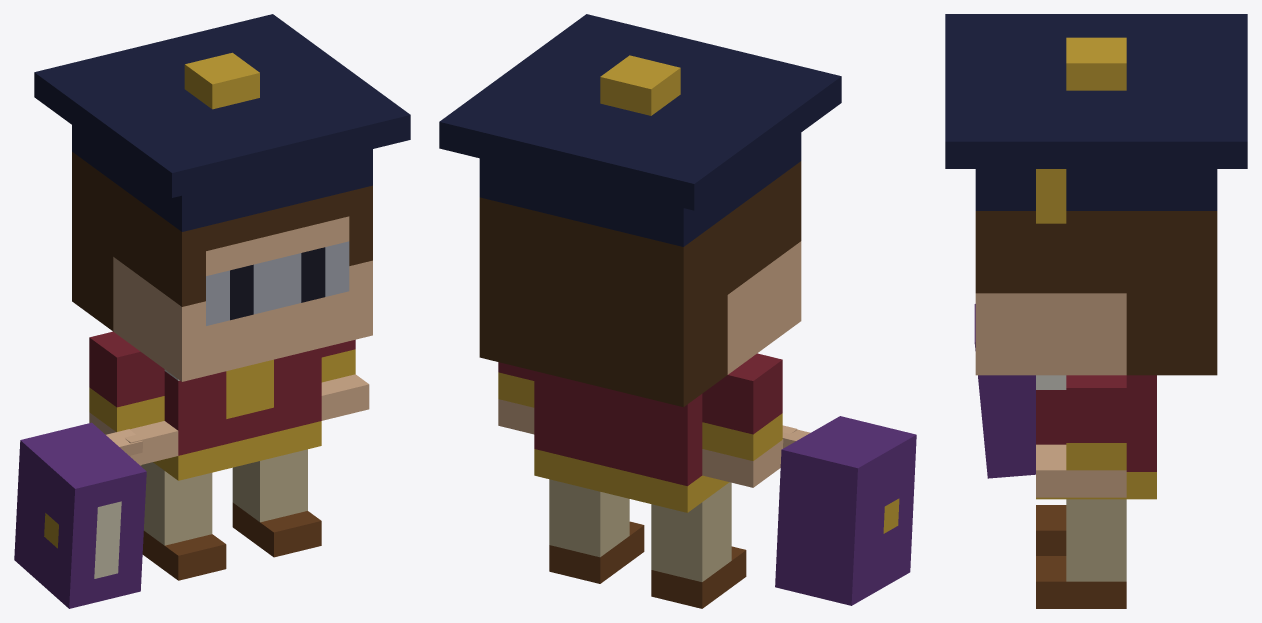
File: h2-voxel.glb
3 views of the same model, side by side, from view 1: azimuth 30°, elevation 25°; view 2: azimuth 150°, elevation 25°; view 3: azimuth 270°, elevation 25° (orthographic). The views are drawn at different scales.
Visible parts, largest first — view 1: head, weapon, torso, arm_R, leg_R, leg_L, hips, arm_L; view 2: head, weapon, torso, arm_R, leg_R, leg_L, hips, arm_L; view 3: head, arm_L, leg_L, weapon, torso, leg_R, hips.
Part boxes in pixels (x1,y1,x2,y2): head: (34,14,410,381); weapon: (14,422,146,608); torso: (164,348,321,455); arm_R: (89,331,178,465); leg_R: (140,462,226,580); leg_L: (232,449,321,557); hips: (153,421,321,480); arm_L: (321,339,369,420); head: (439,14,841,407); weapon: (775,416,916,605); torso: (534,371,702,486); arm_R: (702,353,797,487); leg_R: (651,482,746,608); leg_L: (549,479,644,583); hips: (534,449,729,512); arm_L: (498,362,534,434); head: (945,14,1247,375); arm_L: (1036,375,1126,497); leg_L: (1036,499,1126,608); weapon: (974,304,1035,478); torso: (1036,375,1156,471); leg_R: (1036,505,1066,555); hips: (1036,472,1156,499).
Size of the model in its own units: 3.38 by 4.75 by 2.5.
